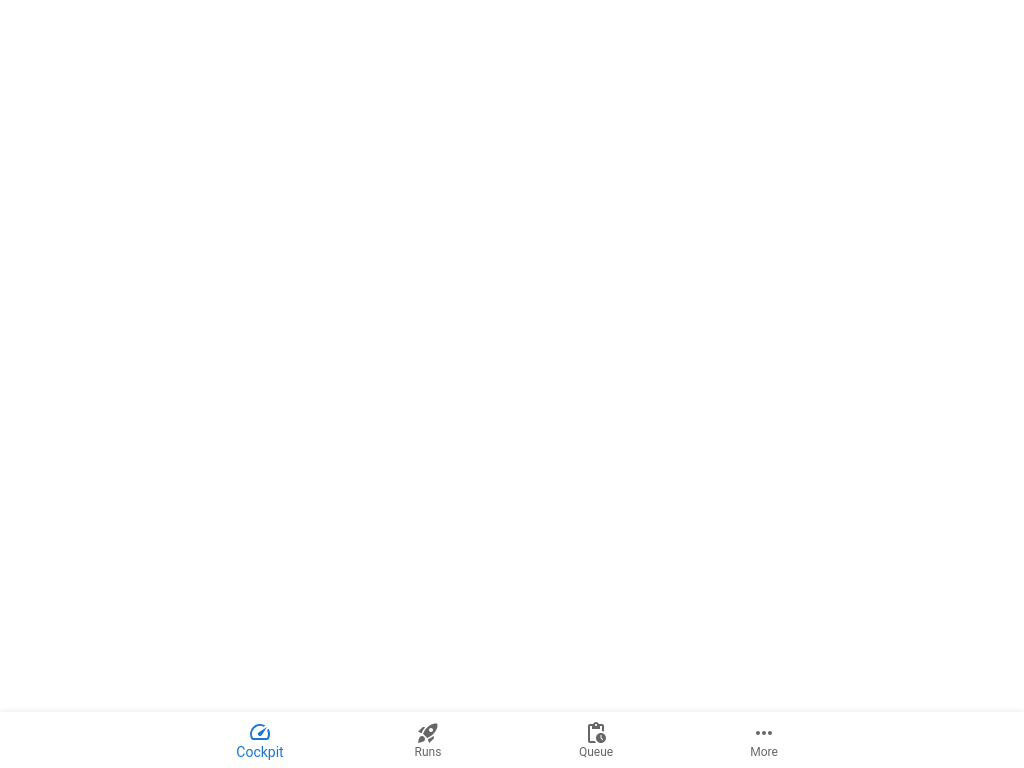
Test: BottomNav › The More sheet › opens a labelled dialog holding exactly the overflow set
The image size is (1024, 768).
Click the button with aria-label "More destinations" at (764, 740), box [680,712,848,767]
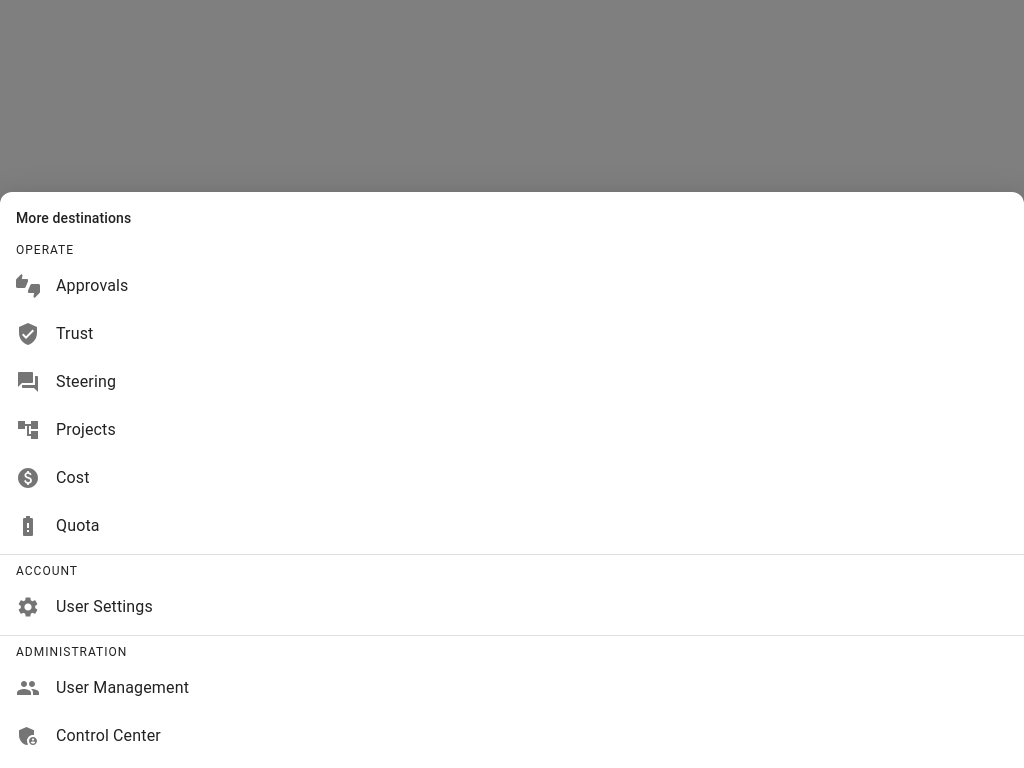
Expected: the number of links is 9
